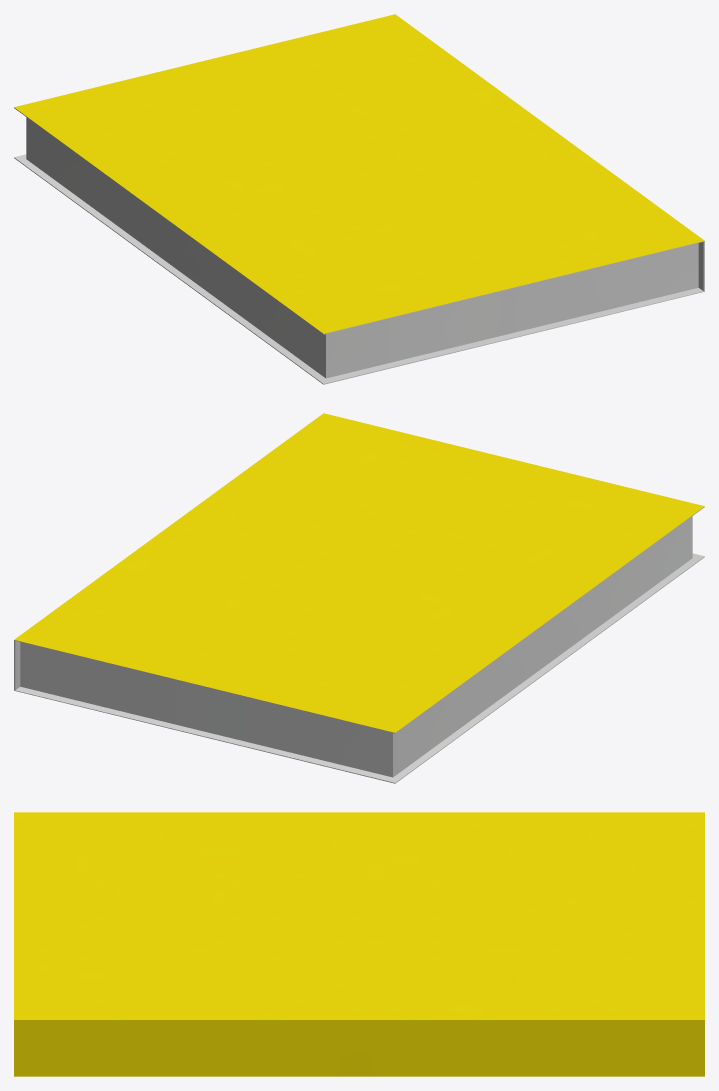
The model's file is Book_3.fbx.
3 views of the same model, one above another, from view 1: azimuth 30°, elevation 25°; view 2: azimuth 150°, elevation 25°; view 3: azimuth 270°, elevation 25° (orthographic). The views are drawn at different scales.
Visible parts, largest first — view 1: Book 3; view 2: Book 3; view 3: Book 3.
Boxes of the visible parts, left/top/right/bottom form: Book 3: left=14, top=14, right=704, bottom=384; Book 3: left=14, top=413, right=704, bottom=783; Book 3: left=14, top=812, right=704, bottom=1076.
Bounding box in the file's own units: 21.61 × 2.75 × 30.4.
